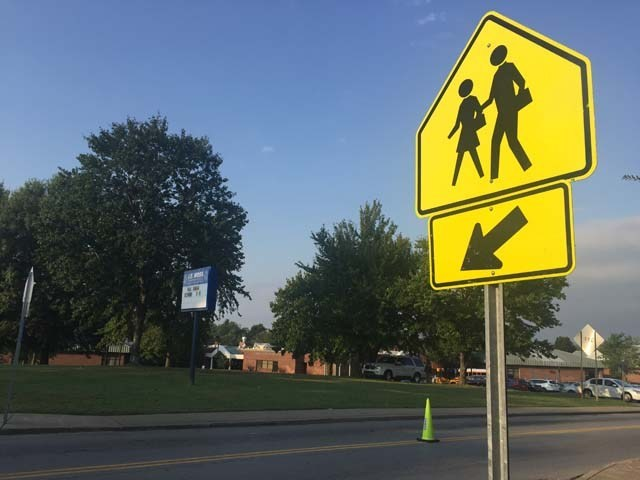slow: (421, 13, 597, 186)
